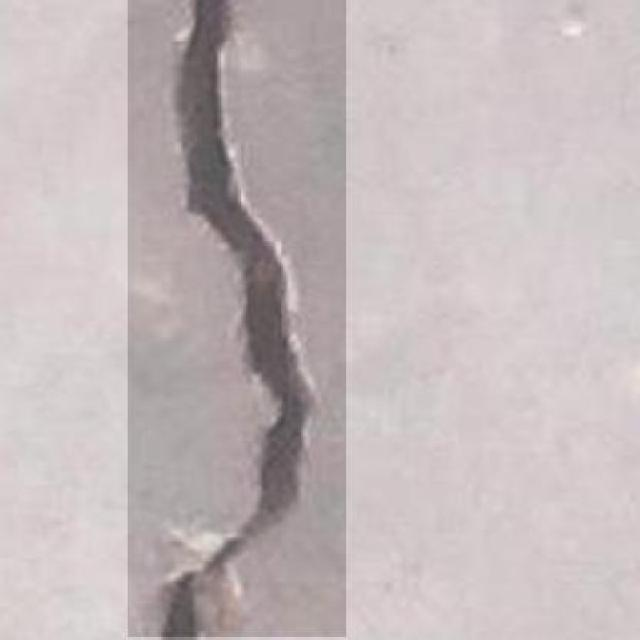Crack: (114, 0, 349, 640)
